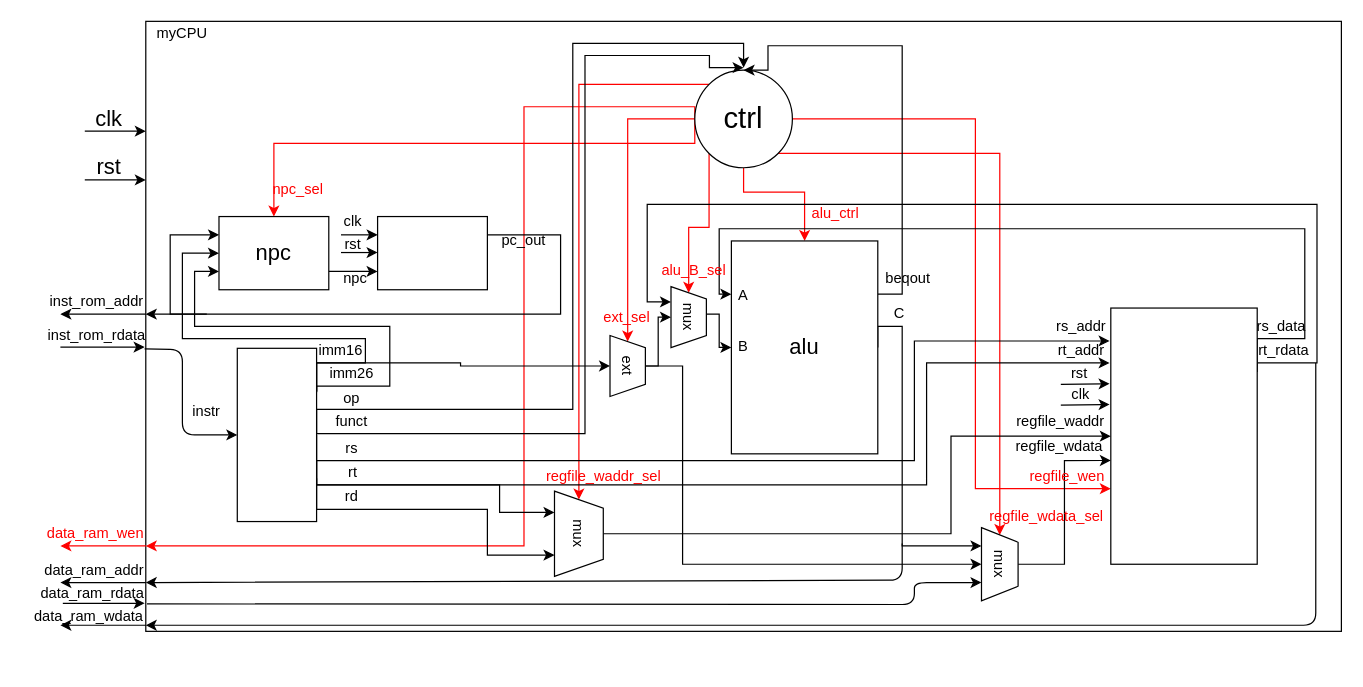
Image size: 1363x687. Some labels were removed from this diagram. Each missing label, with the centre of its shape:
"decode" goes at (x=276, y=434).
"pc" goes at (x=431, y=252).
"regfile" goes at (x=1183, y=435).
